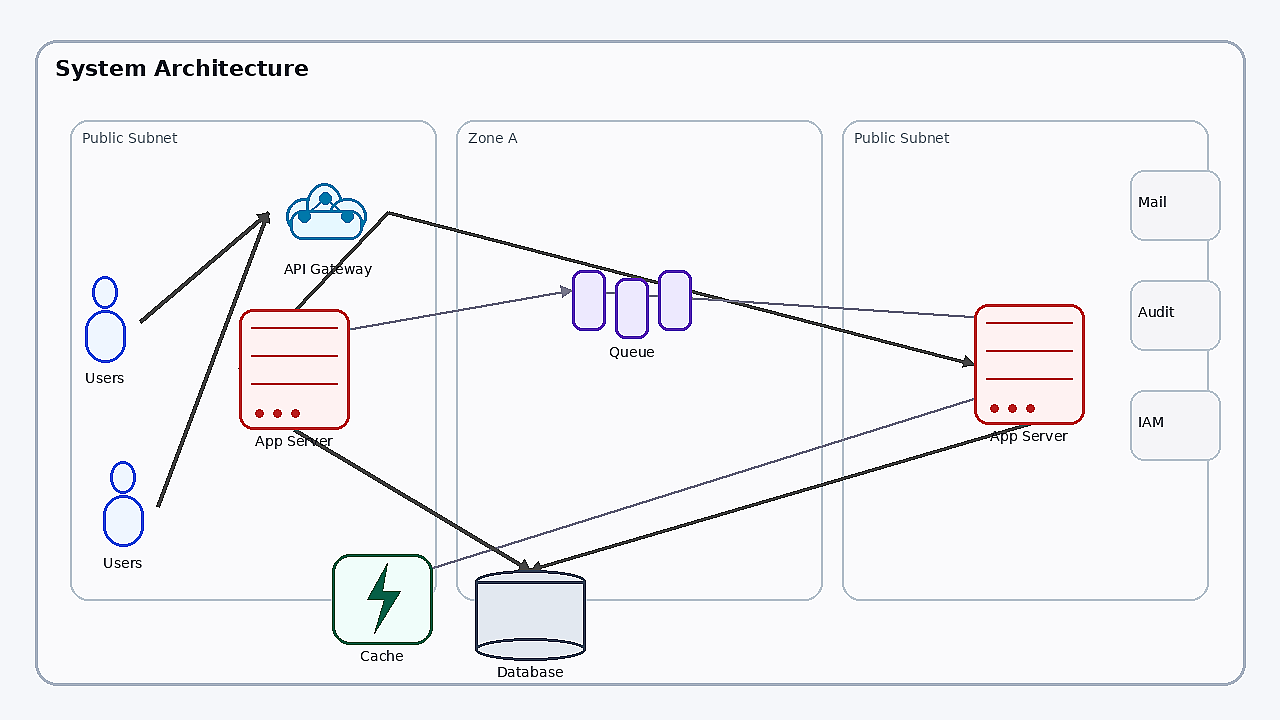API Gateway: (268, 167, 388, 257)
Application Server: (974, 304, 1084, 424), (239, 309, 349, 429)
Cache: (332, 554, 432, 644)
Database: (475, 570, 585, 660)
Message Queue: (572, 270, 692, 340)
User: (70, 276, 140, 366), (88, 461, 158, 551)
